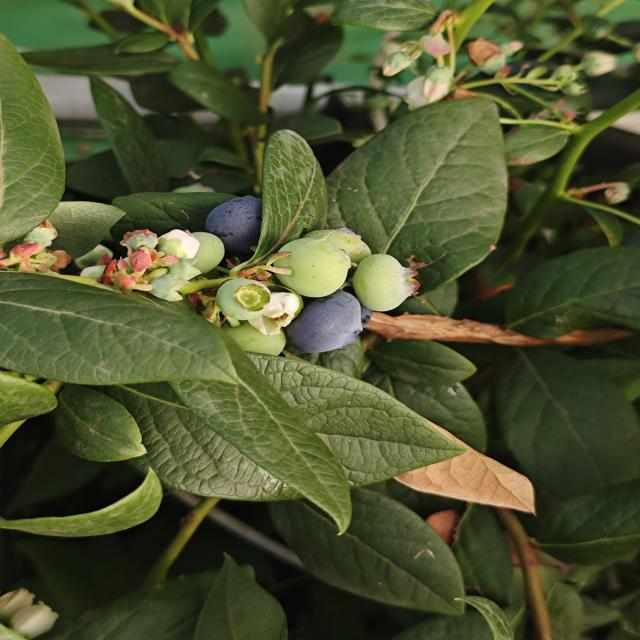ripe: (283, 289, 374, 356), (202, 194, 264, 257)
